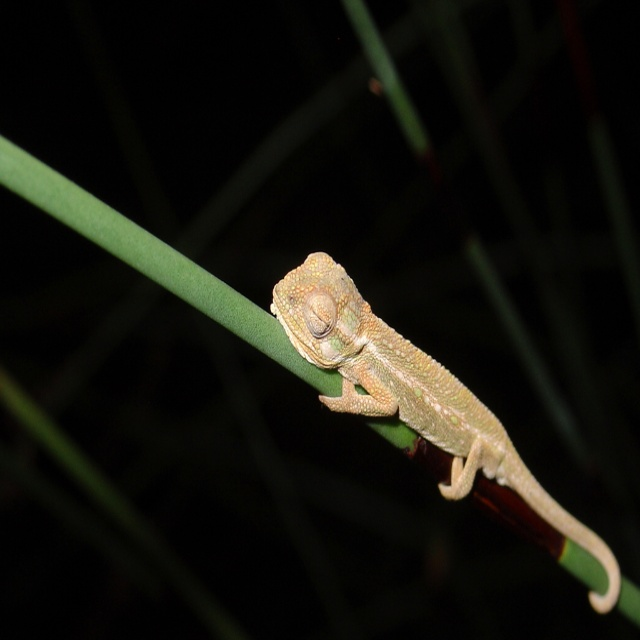Lizard: (270, 252, 622, 614)
